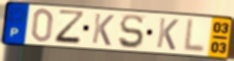0: (29, 8, 54, 44)
K: (90, 12, 116, 48), (155, 17, 181, 52)
L: (181, 17, 207, 55)
S: (117, 13, 145, 51)
Z: (53, 9, 87, 47)
